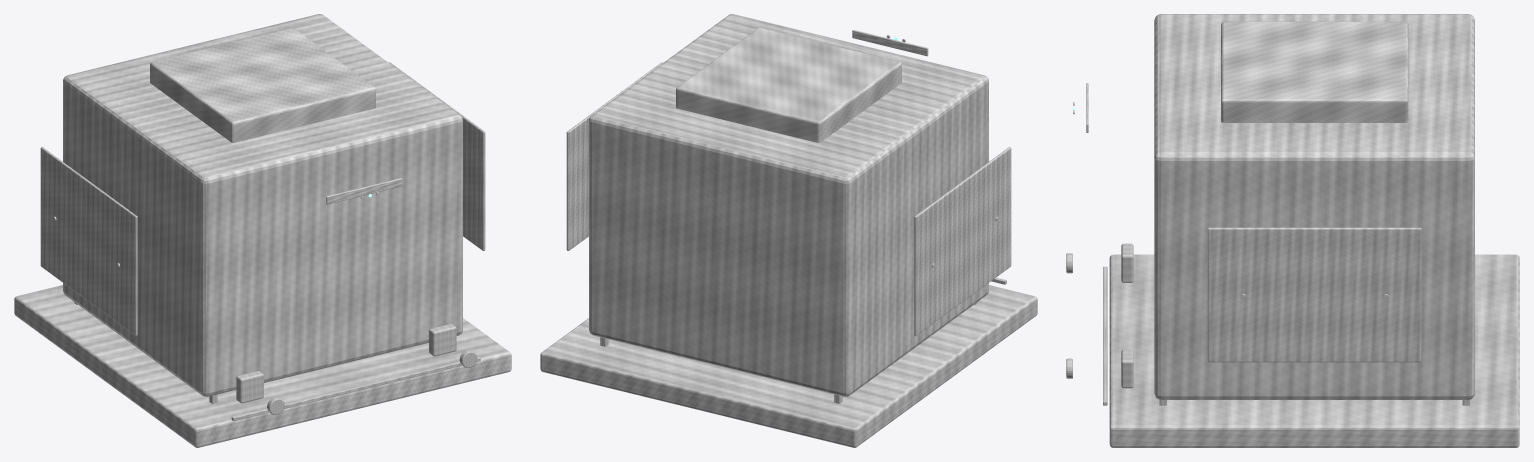
The model's file is converter_variant_d.glb.
The picture shows the model from 3 angles, left to right: view 1: azimuth 30°, elevation 25°; view 2: azimuth 150°, elevation 25°; view 3: azimuth 270°, elevation 25°; orthographic projection. The views are drawn at different scales.
Parts seen in each view (by area): view 1: Main machine shell.003, Foundation skid.003, Conversion chamber, Side access panel.006, Side access panel.007, Amber safety sill, Input output port.006, Input output port.007, Status panel.003; view 2: Main machine shell.003, Foundation skid.003, Conversion chamber, Side access panel.006, Side access panel.007, Status panel.003; view 3: Main machine shell.003, Foundation skid.003, Side access panel.007, Conversion chamber, Amber safety sill, Input output port.007, Input output port.006.
Part boxes in pixels (left/top/right/bottom): Main machine shell.003: left=63, top=14, right=462, bottom=396; Foundation skid.003: left=14, top=285, right=511, bottom=447; Conversion chamber: left=150, top=28, right=375, bottom=142; Side access panel.006: left=40, top=147, right=137, bottom=335; Side access panel.007: left=389, top=62, right=485, bottom=250; Amber safety sill: left=231, top=356, right=480, bottom=421; Input output port.006: left=236, top=371, right=263, bottom=403; Input output port.007: left=429, top=324, right=456, bottom=356; Status panel.003: left=326, top=178, right=402, bottom=204; Main machine shell.003: left=589, top=14, right=988, bottom=396; Foundation skid.003: left=540, top=285, right=1037, bottom=447; Conversion chamber: left=676, top=28, right=901, bottom=142; Side access panel.006: left=914, top=147, right=1011, bottom=335; Side access panel.007: left=566, top=62, right=662, bottom=250; Status panel.003: left=852, top=30, right=928, bottom=56; Main machine shell.003: left=1154, top=14, right=1474, bottom=399; Foundation skid.003: left=1109, top=254, right=1519, bottom=447; Side access panel.007: left=1207, top=227, right=1421, bottom=362; Conversion chamber: left=1221, top=21, right=1408, bottom=122; Amber safety sill: left=1103, top=266, right=1107, bottom=405; Input output port.007: left=1121, top=349, right=1133, bottom=388; Input output port.006: left=1121, top=243, right=1133, bottom=282.
Size of what is drawn, in the model's own units: 8.24 by 5.99 by 8.14.
Materials: 7 (7 with a texture image).
